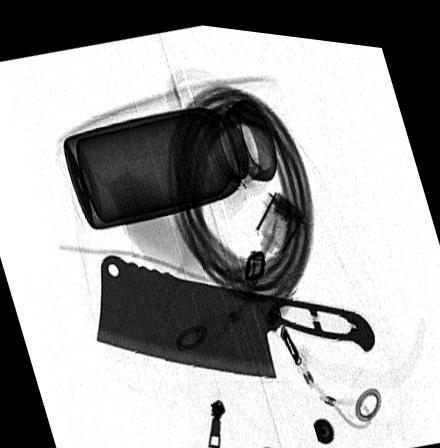Knife: (94, 251, 374, 372)
